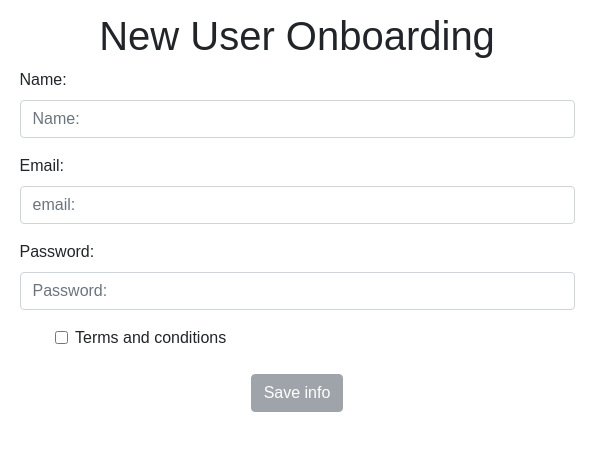
Test: Testing our Form › Get the name input and input the name
Type "Ryan Schueck" into the field with test id "name-input" at (298, 119), box [20,100,575,138]
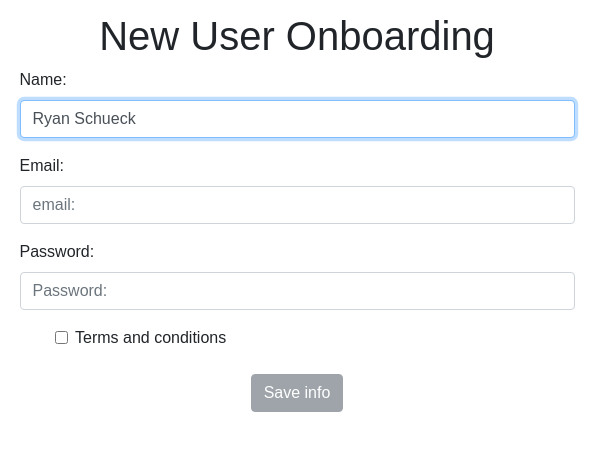
Clear the field with test id "name-input" at (298, 119), box [20,100,575,138]
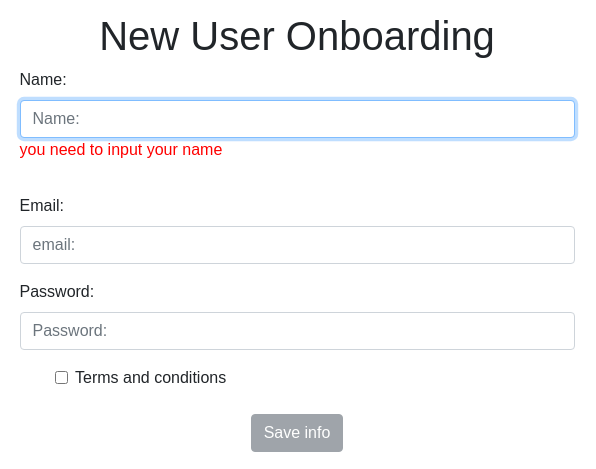
Expected: the button with test id "submit" is disabled, [251,414,344,452]
Expected: the text "you need to input your name" is shown, [20,138,222,162]
